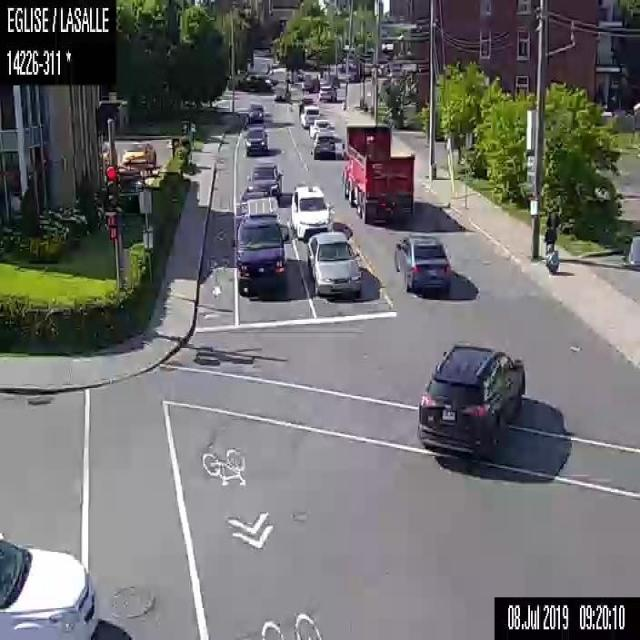pedestrian: (543, 210, 560, 274)
vehicle: (416, 337, 524, 456), (0, 530, 99, 638), (340, 122, 415, 223), (232, 193, 288, 295), (304, 232, 362, 297), (393, 233, 451, 291), (288, 180, 334, 239), (245, 161, 282, 197), (120, 142, 157, 166), (307, 131, 336, 160), (244, 123, 268, 152), (299, 103, 320, 129), (299, 70, 320, 94), (308, 117, 332, 136), (246, 101, 264, 122), (318, 84, 337, 102), (274, 83, 291, 101)
